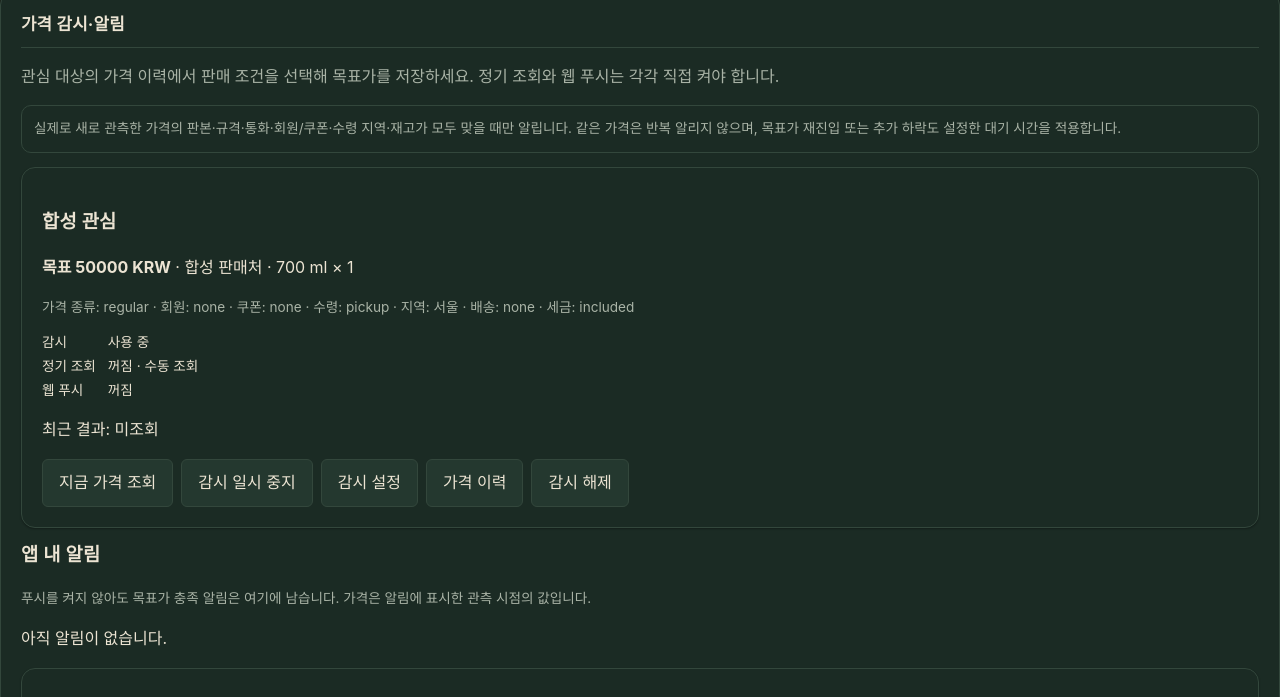
it: 감시 설정 충돌 시 입력을 유지하고 명시적으로 서버 값으로 복구한다
Click the button "감시 설정".
click(369, 483)  # box [321,459,418,507]
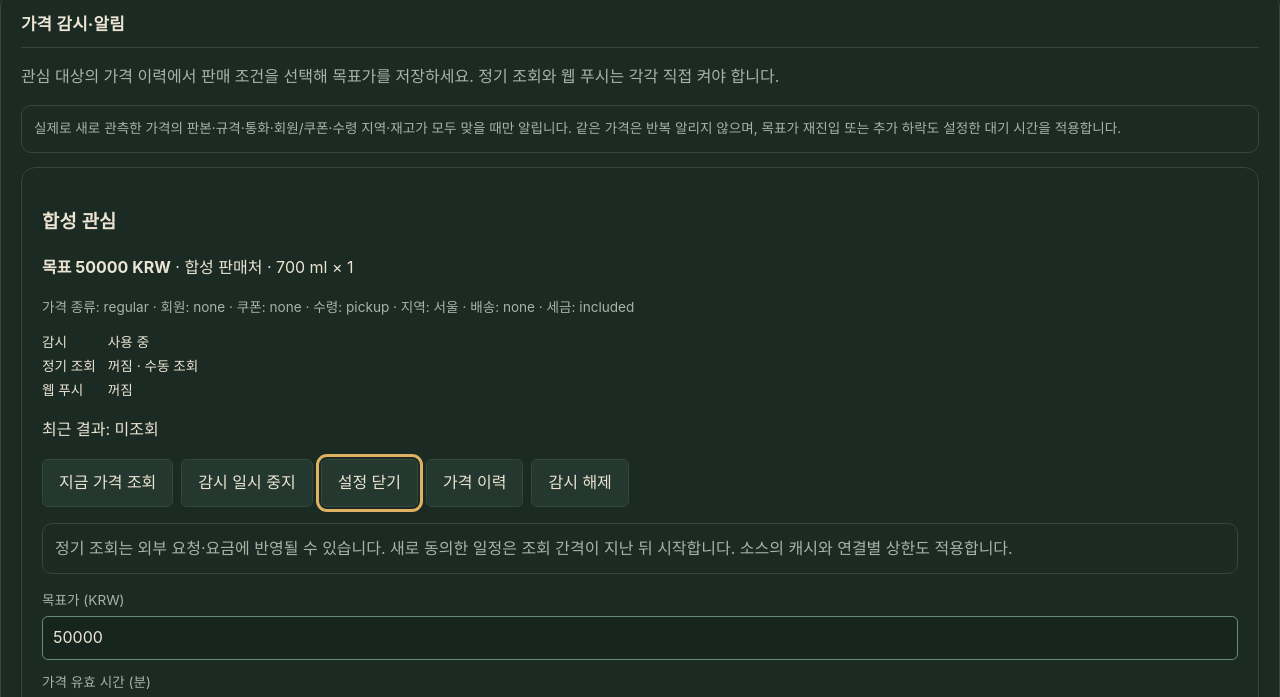
Replace the text in the number field labelled "목표가 (KRW)" with "41000" at (640, 638), box [42,616,1238,660]
(page scrolled)
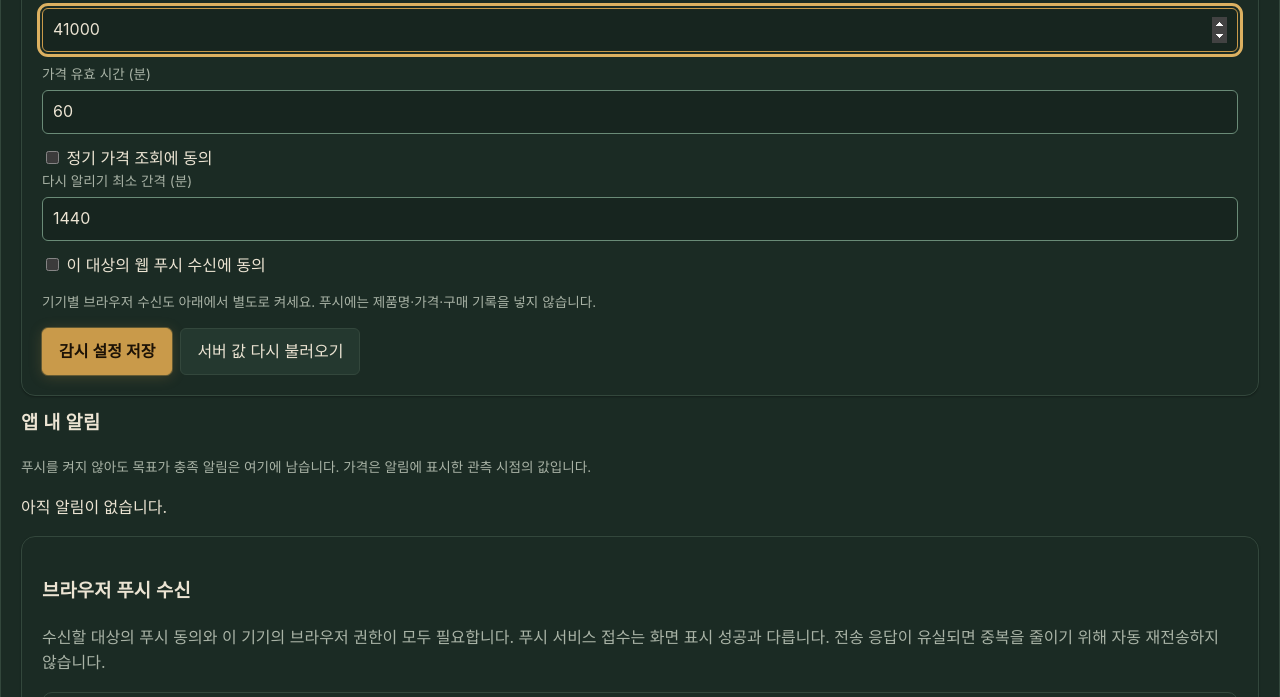
Click the button "감시 설정 저장".
click(107, 351)  # box [42,328,172,375]
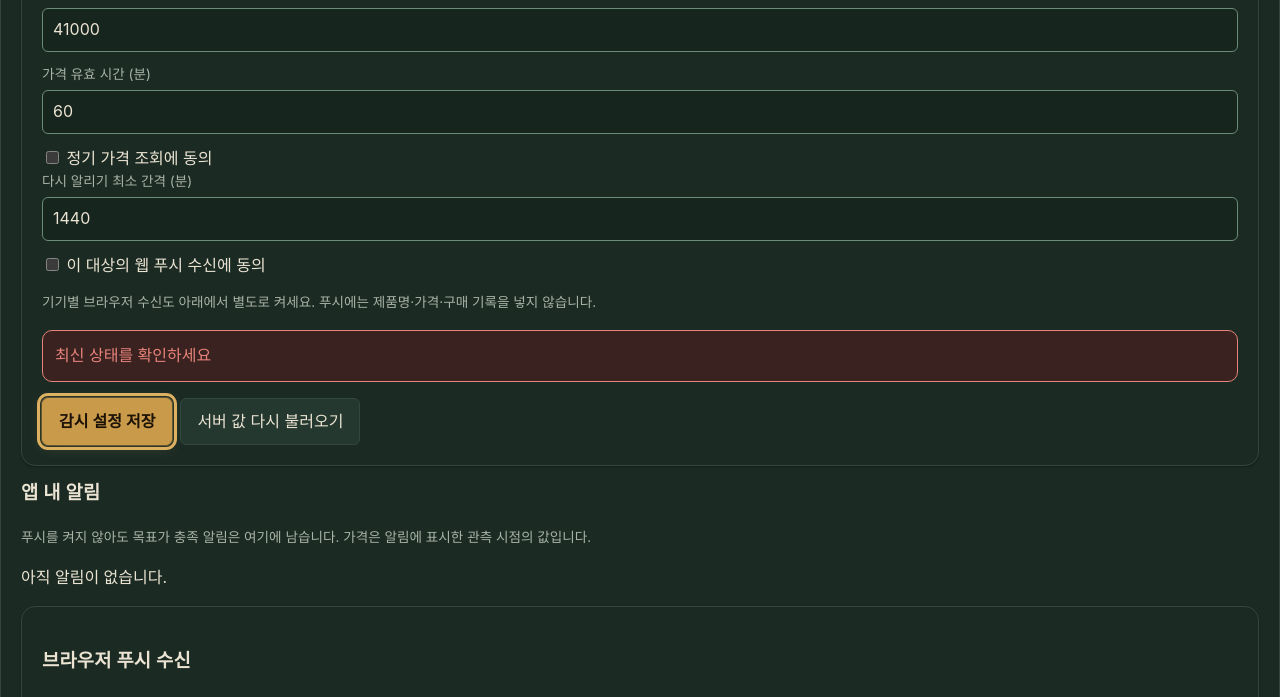
Check: the message reads "최신 상태를 확인하세요", box [55,345,211,365]
Click the button "서버 값 다시 불러오기".
click(270, 421)  # box [180,398,360,445]
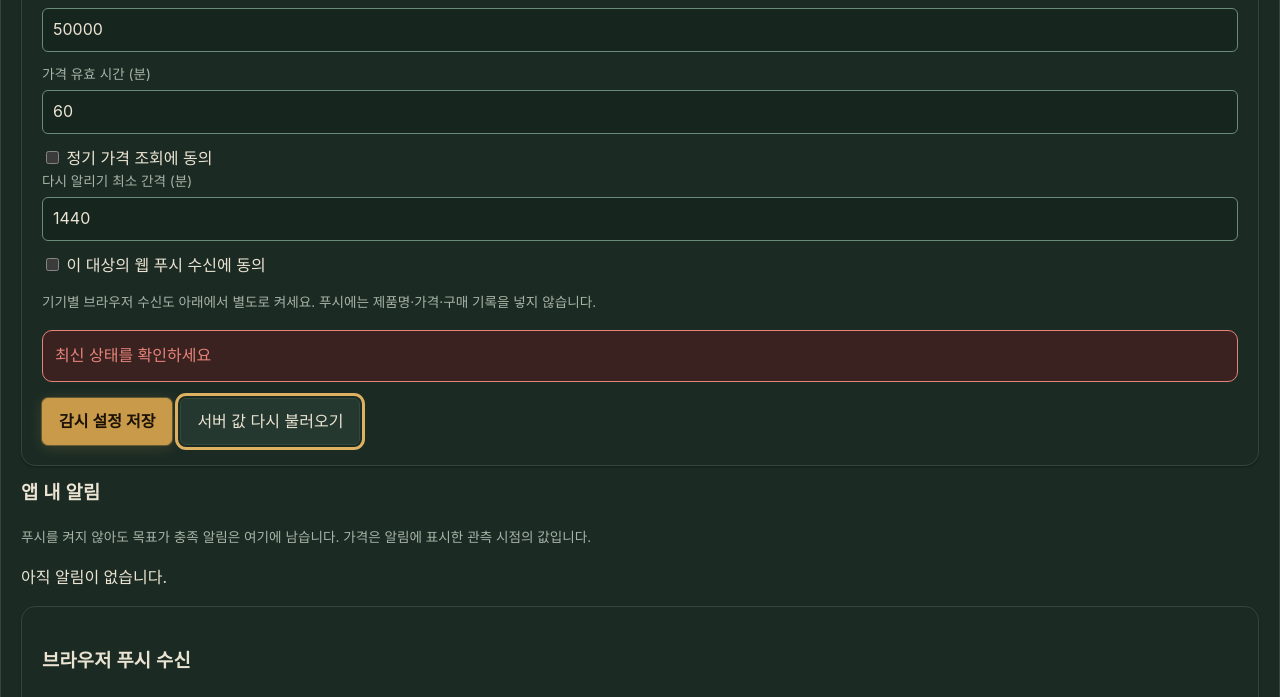
Check: the number field labelled "목표가 (KRW)" holds "50000", box [42,8,1238,52]
